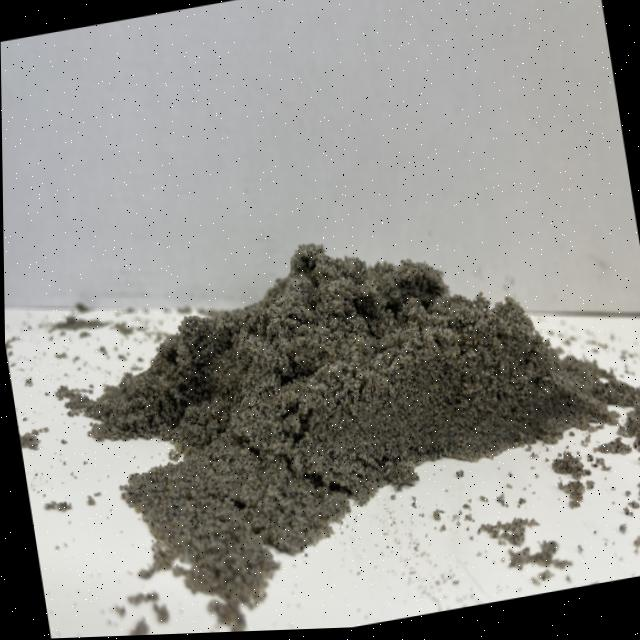sand: (58, 174, 640, 627)
